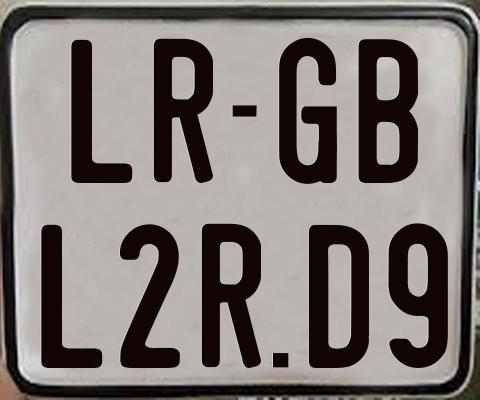2: (120, 224, 186, 371)
9: (385, 222, 451, 368)
B: (358, 37, 418, 187)
D: (309, 222, 375, 365)
G: (279, 36, 337, 184)
L: (40, 225, 106, 372), (68, 38, 131, 187)
R: (154, 36, 219, 180), (202, 224, 266, 368)
